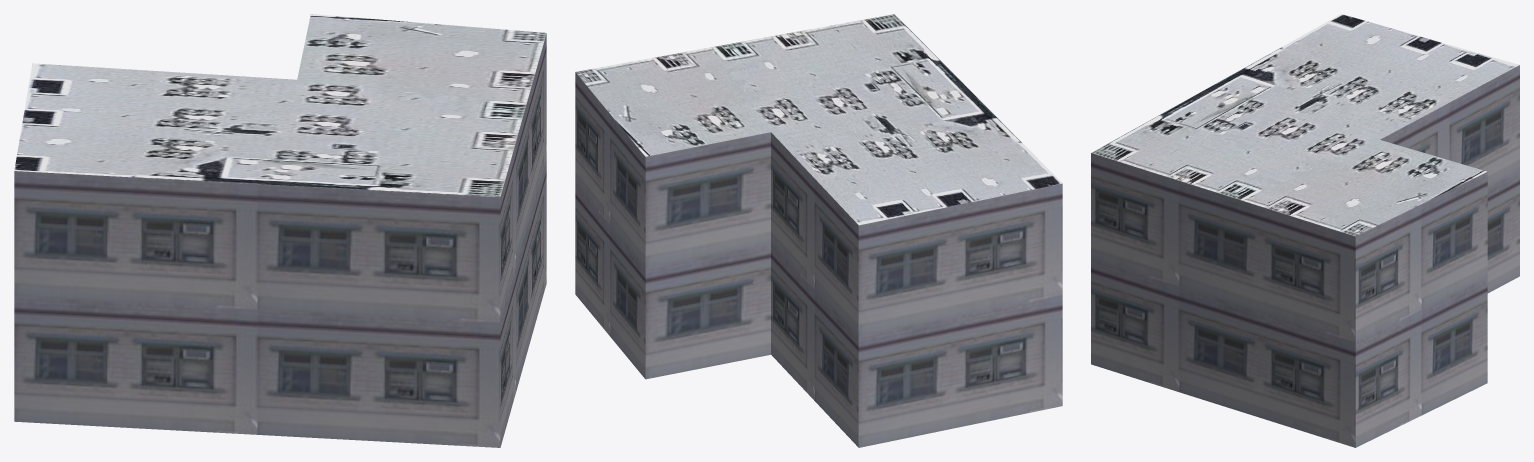
Rendered from ResTex__139.fbx.
The picture shows the model from 3 angles, left to right: view 1: azimuth 30°, elevation 25°; view 2: azimuth 150°, elevation 25°; view 3: azimuth 270°, elevation 25°; orthographic projection. The views are drawn at different scales.
Parts seen in each view (by area): view 1: CityEngineMaterial_1_m, CityEngineMaterial_4_m; view 2: CityEngineMaterial_1_m, CityEngineMaterial_4_m; view 3: CityEngineMaterial_1_m, CityEngineMaterial_4_m.
Boxes of the visible parts, x1,y1,x2,y2 form: CityEngineMaterial_1_m: [14, 34, 546, 447]; CityEngineMaterial_4_m: [14, 14, 546, 197]; CityEngineMaterial_1_m: [575, 72, 1062, 447]; CityEngineMaterial_4_m: [575, 14, 1062, 225]; CityEngineMaterial_1_m: [1091, 65, 1519, 447]; CityEngineMaterial_4_m: [1091, 14, 1519, 236].
Size of the model in its own units: 13.54 by 6 by 11.02.
2 materials, 2 textured.
